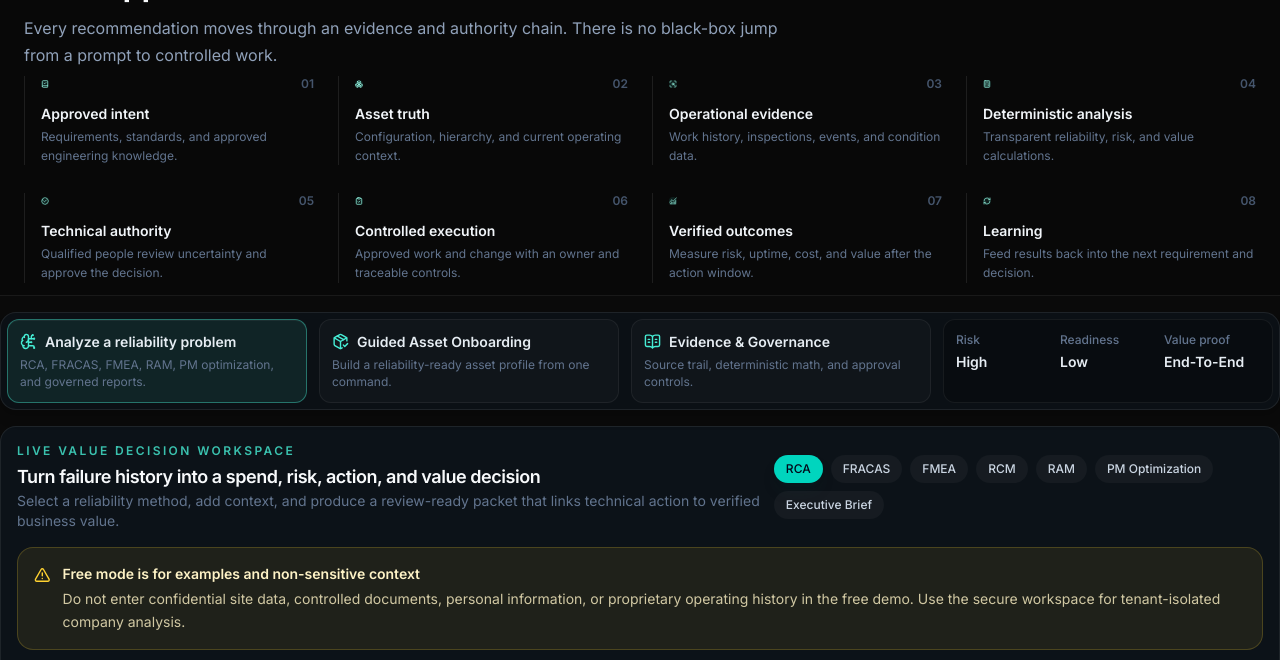
Scenario: ReliabilityCopilotPage › starts asset onboarding from a slash command and advances progress
The width and height of the screenshot is (1280, 660).
(page scrolled)
Click the button "Guided Asset Onboarding" at (469, 361), box [319,319,619,403]
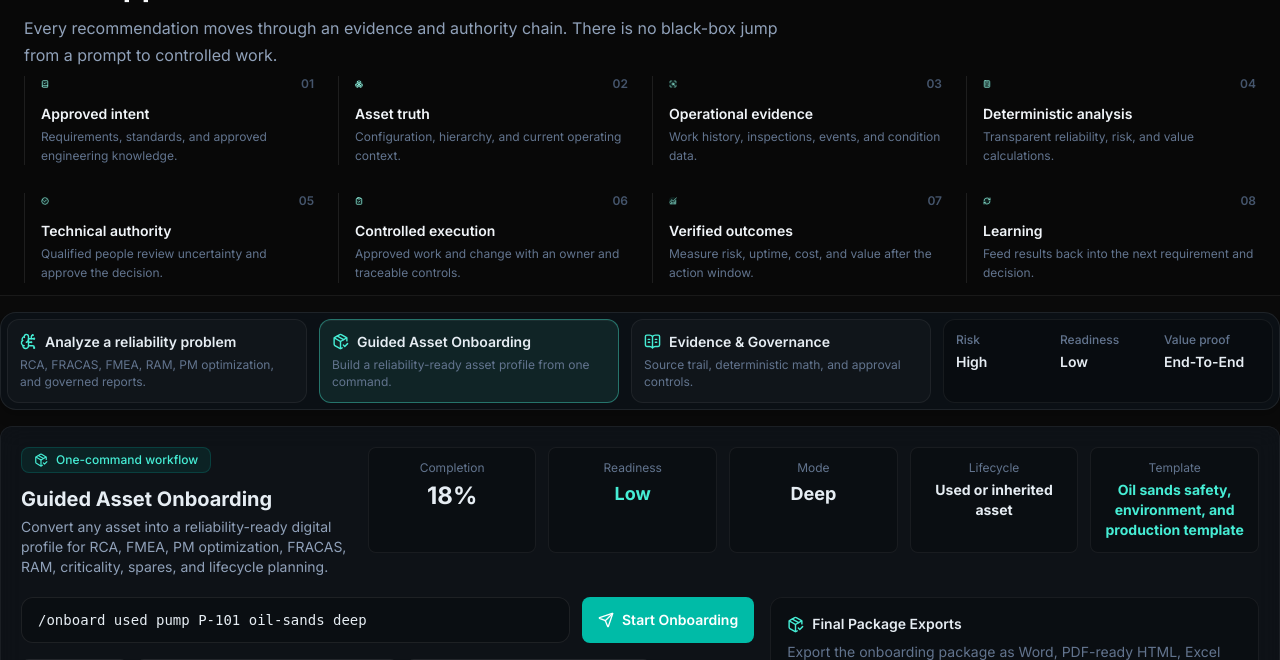
Replace the text in the field named "Asset onboarding command" with "/onboard conveyor CV-204" at (296, 620), box [21,597,570,643]
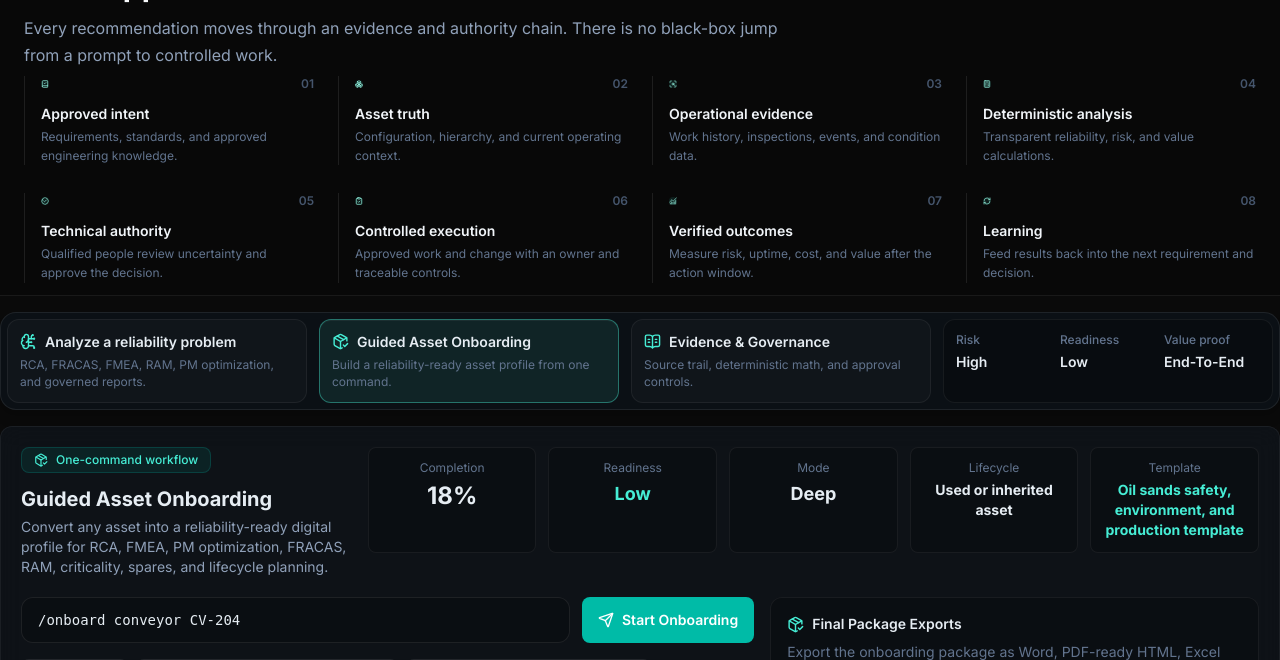
Click the button "Start Onboarding" at (668, 620), box [582,597,754,643]
(page scrolled)
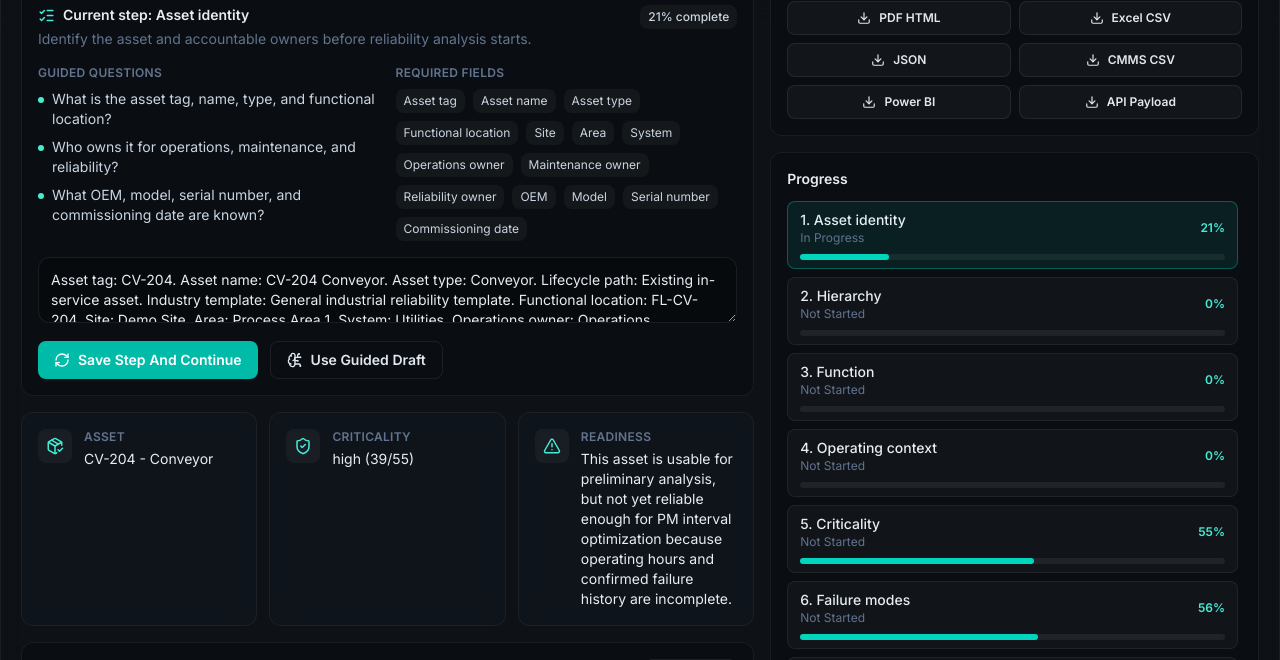
Now the text "Current step: Asset identity" is shown, box [38,6,249,24]
Now the text box "Conveyor" is shown, box [38,257,737,323]
Click the button "Save Step And Continue" at (148, 360), box [38,341,258,379]
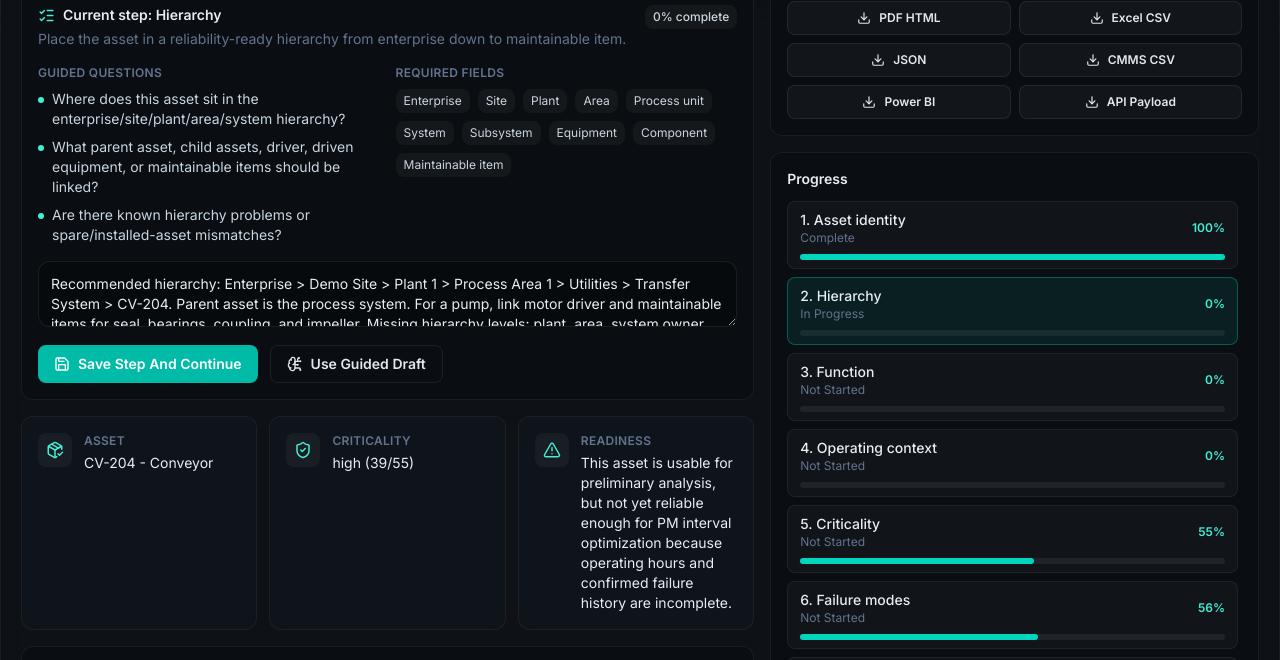
Now the text "Current step: Hierarchy" is shown, box [38,6,222,24]
